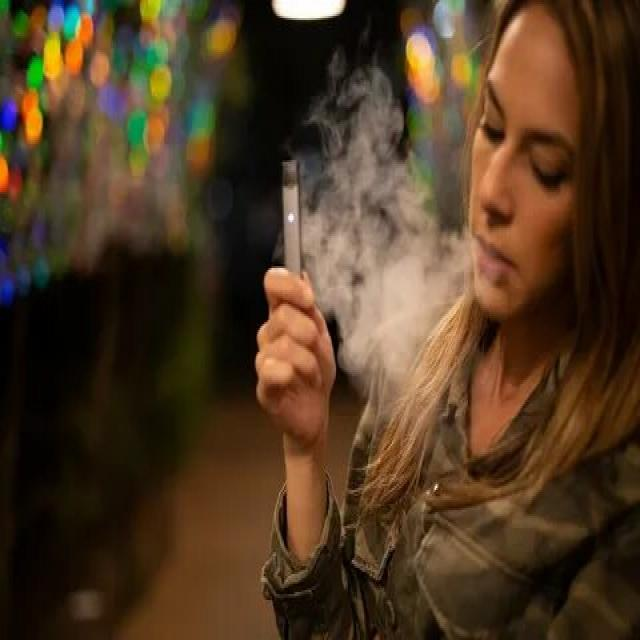smoke: (280, 150, 303, 294)
